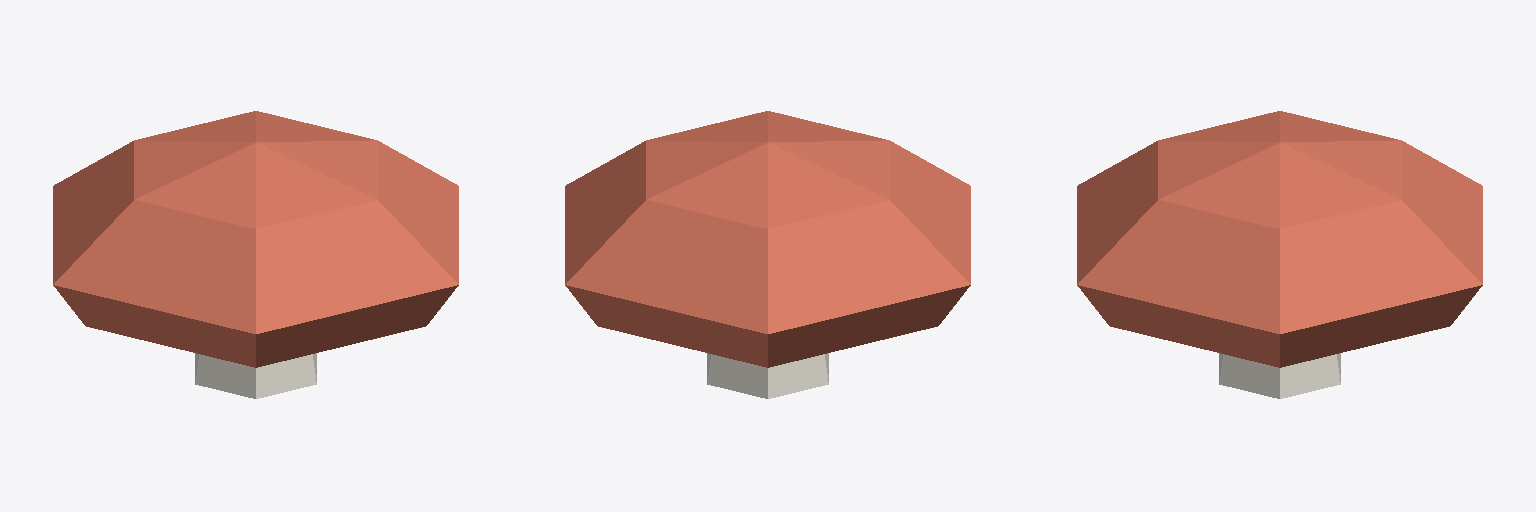
Rendered from Prop_Mushroom_2.obj.
3 renders of one model, left to right at view 1: azimuth 30°, elevation 25°; view 2: azimuth 150°, elevation 25°; view 3: azimuth 270°, elevation 25°, orthographic.
Parts seen in each view (by area): view 1: object2, object1; view 2: object2, object1; view 3: object2, object1.
Boxes of the visible parts, x1,y1,x2,y2 form: object2: [53, 111, 458, 367]; object1: [195, 353, 316, 398]; object2: [565, 111, 970, 367]; object1: [707, 353, 828, 398]; object2: [1077, 111, 1482, 367]; object1: [1219, 353, 1340, 398].
Bounding box in the file's own units: 0.5 × 0.2674 × 0.433.